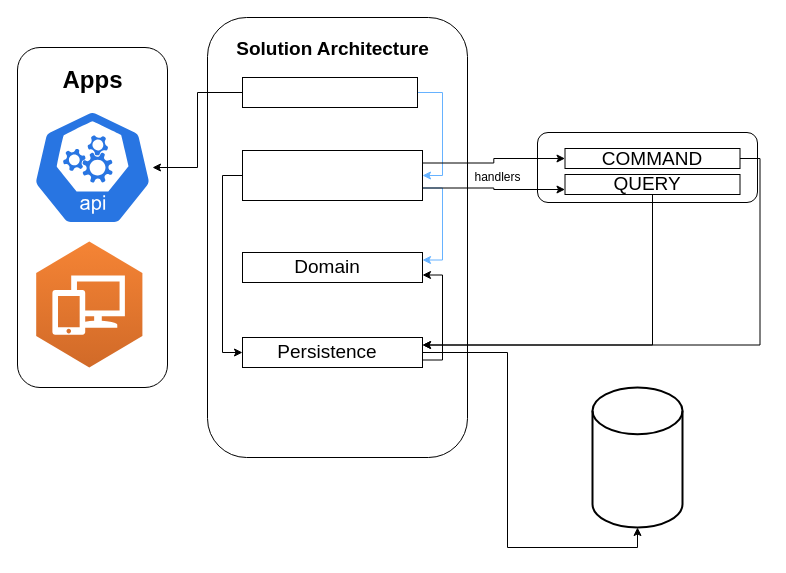
The diagram is 786 pixels wide and 573 high, and some of its shapes have lost their labels. Each missing label, with the box of its shape:
API: (242, 76, 418, 108)
Application (Business Logic): (242, 150, 422, 200)
Database: (591, 386, 683, 528)
